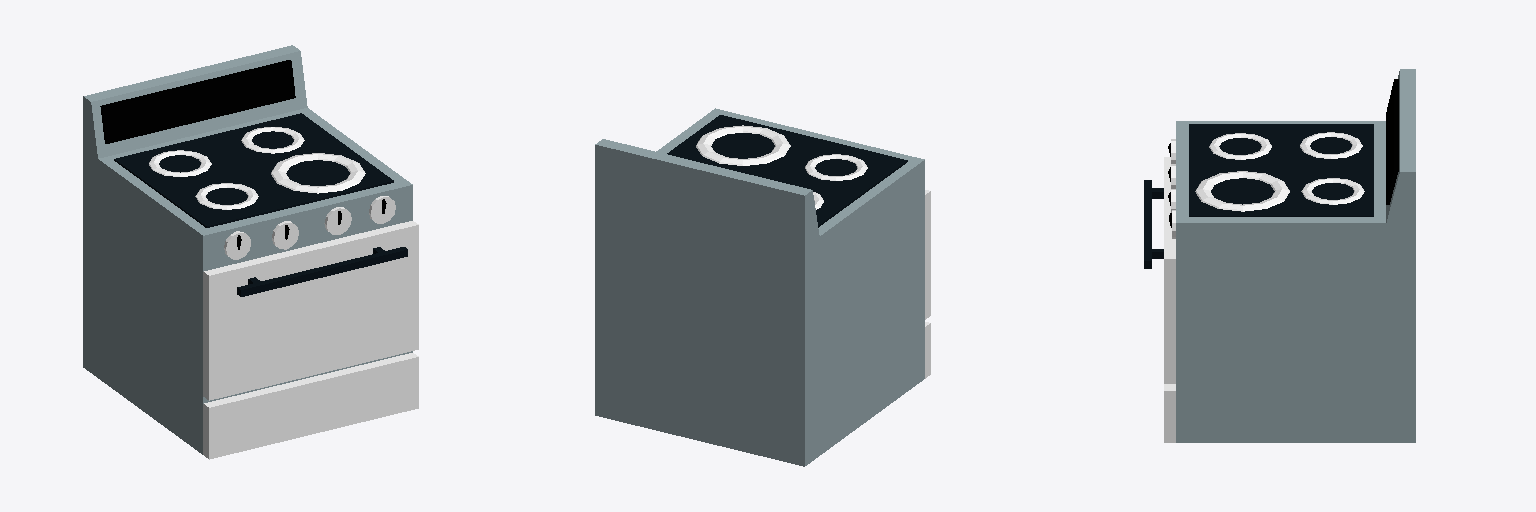
The model's file is Oven.obj.
3 renders of one model, left to right at view 1: azimuth 30°, elevation 25°; view 2: azimuth 150°, elevation 25°; view 3: azimuth 270°, elevation 25°, orthographic.
Parts seen in each view (by area): view 1: group[number redacted], group[number redacted], group[number redacted], group[number redacted], group[number redacted], group[number redacted], group[number redacted], group[number redacted], group[number redacted], group[number redacted], group[number redacted], group[number redacted] (+2 smaller); view 2: group[number redacted], group[number redacted], group[number redacted], group[number redacted], group[number redacted]; view 3: group[number redacted], group[number redacted], group[number redacted], group[number redacted], group[number redacted], group[number redacted], group[number redacted], group[number redacted], group[number redacted], group[number redacted].
Part boxes in pixels (x1,y1,x2,y2): group[number redacted]: (83, 45, 412, 454); group[number redacted]: (203, 221, 418, 400); group[number redacted]: (114, 113, 393, 227); group[number redacted]: (203, 353, 418, 459); group[number redacted]: (100, 60, 295, 143); group[number redacted]: (237, 247, 407, 296); group[number redacted]: (271, 153, 365, 193); group[number redacted]: (195, 183, 258, 209); group[number redacted]: (149, 150, 211, 176); group[number redacted]: (241, 127, 304, 153); group[number redacted]: (224, 231, 250, 259); group[number redacted]: (272, 221, 298, 249); group[number redacted]: (595, 108, 924, 466); group[number redacted]: (667, 115, 907, 227); group[number redacted]: (696, 125, 790, 165); group[number redacted]: (925, 190, 930, 319); group[number redacted]: (805, 154, 867, 180); group[number redacted]: (1176, 69, 1415, 442); group[number redacted]: (1189, 124, 1373, 216); group[number redacted]: (1164, 157, 1175, 383); group[number redacted]: (1195, 171, 1289, 211); group[number redacted]: (1386, 79, 1398, 204); group[number redacted]: (1144, 180, 1163, 268); group[number redacted]: (1301, 178, 1364, 204); group[number redacted]: (1209, 133, 1271, 159); group[number redacted]: (1300, 132, 1362, 158); group[number redacted]: (1164, 384, 1175, 442).
Size of the model in its own units: 1.23 by 1.52 by 1.38.